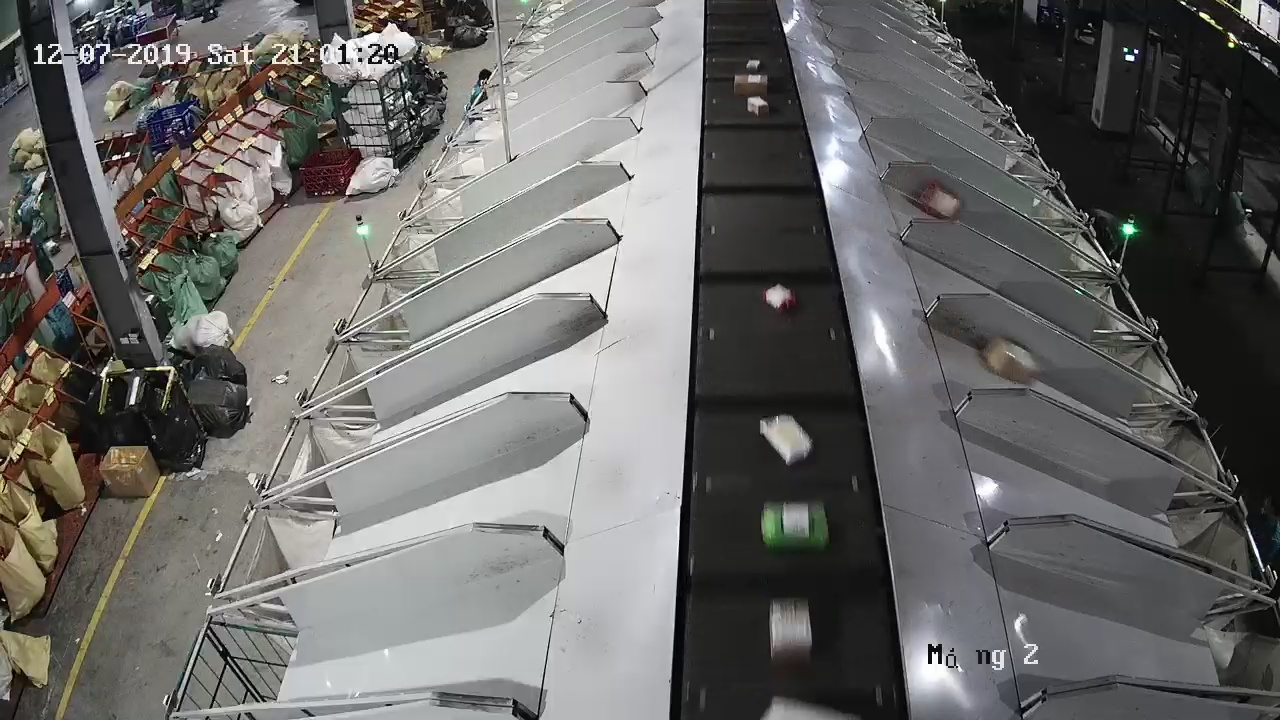parcel: (978, 334, 1042, 386), (916, 180, 963, 220)
